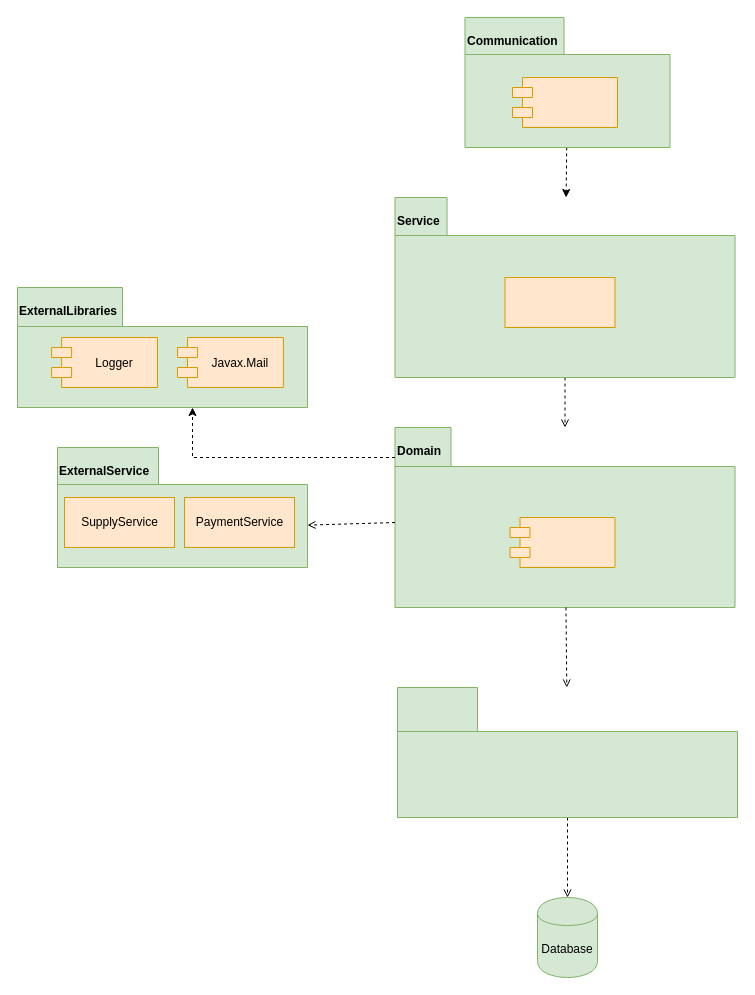
Image size: 755x995. Some labels were removed from this diagram. The centre of each missing label's shape, as x and y in pixels:
Data Access: point (567, 752)
GUI: point (565, 102)
iMarket: point (559, 302)
Market: point (562, 542)
